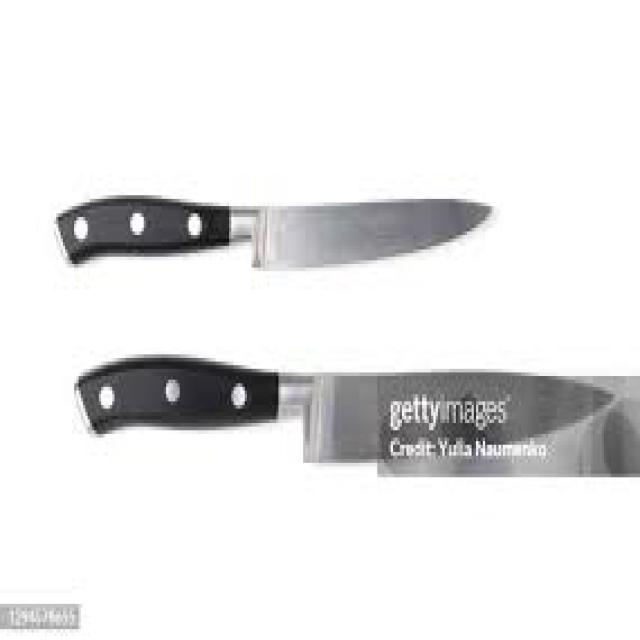Knife: (74, 351, 638, 474), (54, 192, 494, 268)
